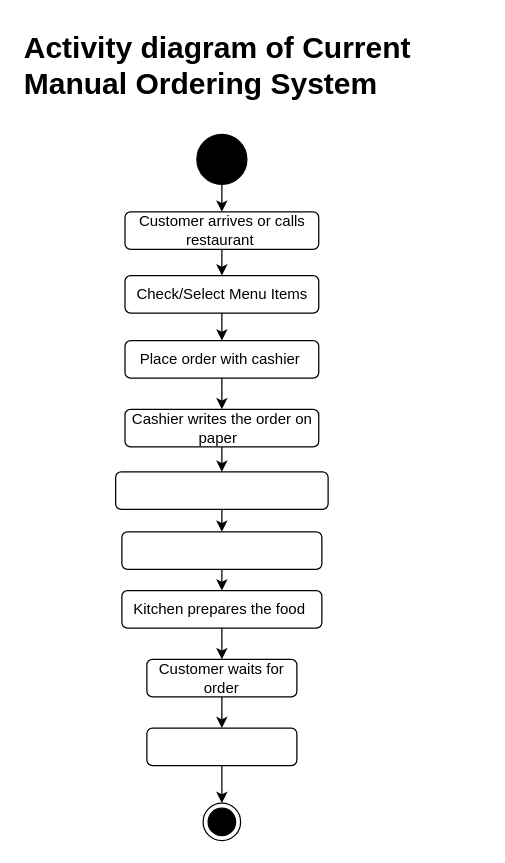
This 505x863 diagram has some shape labels left out. The shapes that lost their labels are listed below. From the top down, each one's centre as x and y in pixels, then its label:
point (221, 490): Cashier sends the order to the kitchen
point (221, 550): Kitchen receives the order
point (221, 746): Customer receives the food
